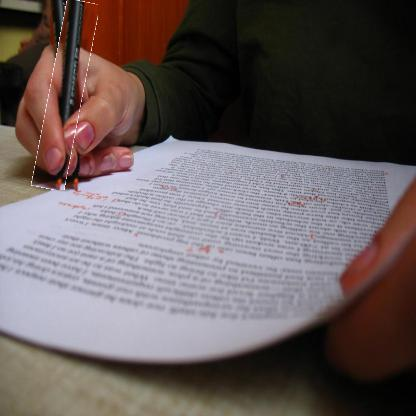Pen: (40, 0, 91, 191)
